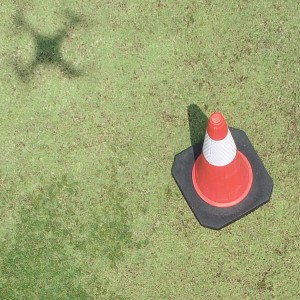traffic cone: (171, 112, 273, 229)
